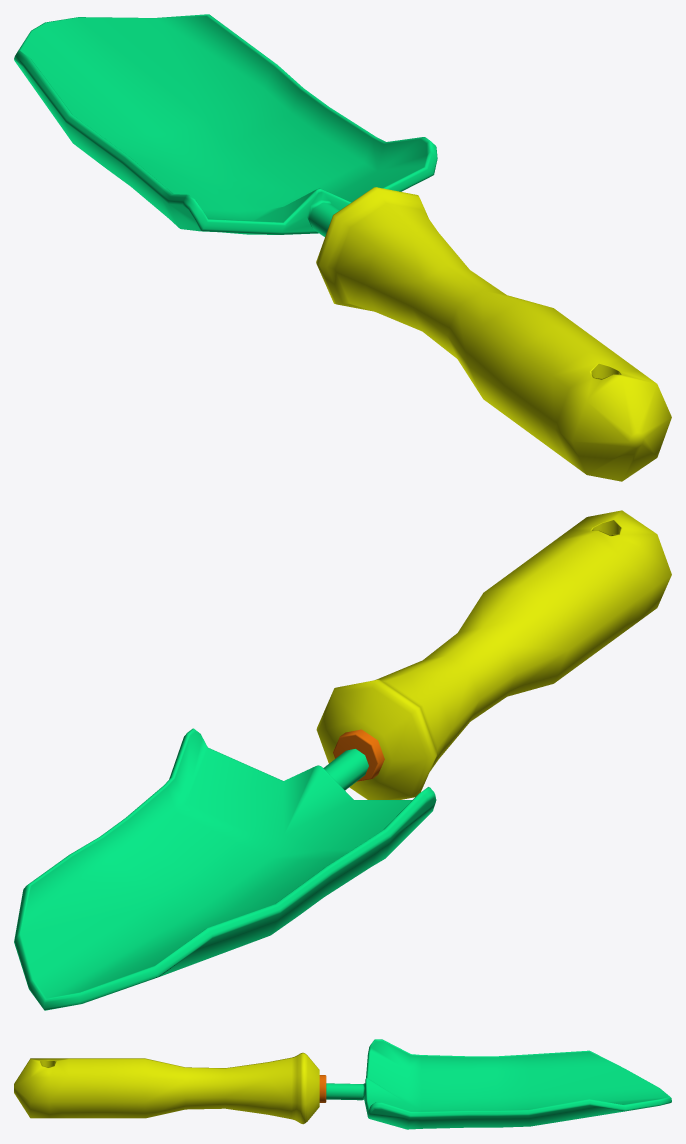
Rendered from trowel_mesh.fbx.
3 renders of one model, top to bottom at view 1: azimuth 30°, elevation 25°; view 2: azimuth 150°, elevation 25°; view 3: azimuth 270°, elevation 25°, orthographic. The views are drawn at different scales.
Visible parts, largest first — view 1: metal_head, wooden_handle; view 2: metal_head, wooden_handle, metal_nub; view 3: metal_head, wooden_handle, metal_nub.
Boxes of the visible parts, x1,y1,x2,y2 form: metal_head: [14, 14, 437, 236]; wooden_handle: [316, 187, 671, 481]; metal_head: [14, 728, 436, 1010]; wooden_handle: [316, 510, 671, 799]; metal_nub: [333, 729, 384, 781]; metal_head: [326, 1039, 671, 1129]; wooden_handle: [14, 1052, 319, 1124]; metal_nub: [319, 1075, 326, 1102].
Size of the model in its own units: 121 by 58.21 by 502.
